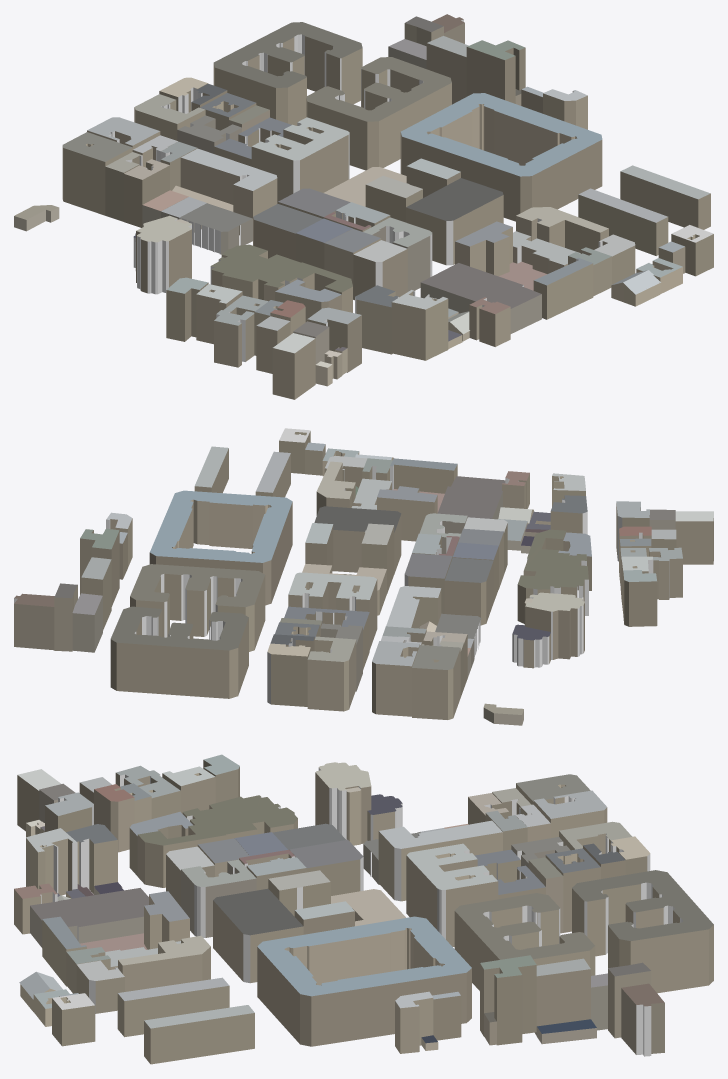
The picture shows the model from 3 angles, top to bottom: view 1: azimuth 30°, elevation 25°; view 2: azimuth 150°, elevation 25°; view 3: azimuth 270°, elevation 25°; orthographic projection. The views are drawn at different scales.
Visible parts, largest first — view 1: tuile; view 2: tuile; view 3: tuile.
Boxes of the visible parts, x1,y1,x2,y2 form: tuile: (14,14,713,399); tuile: (14,428,713,725); tuile: (14,754,713,1064).
Size of the model in its own units: 255 by 37.56 by 278.
